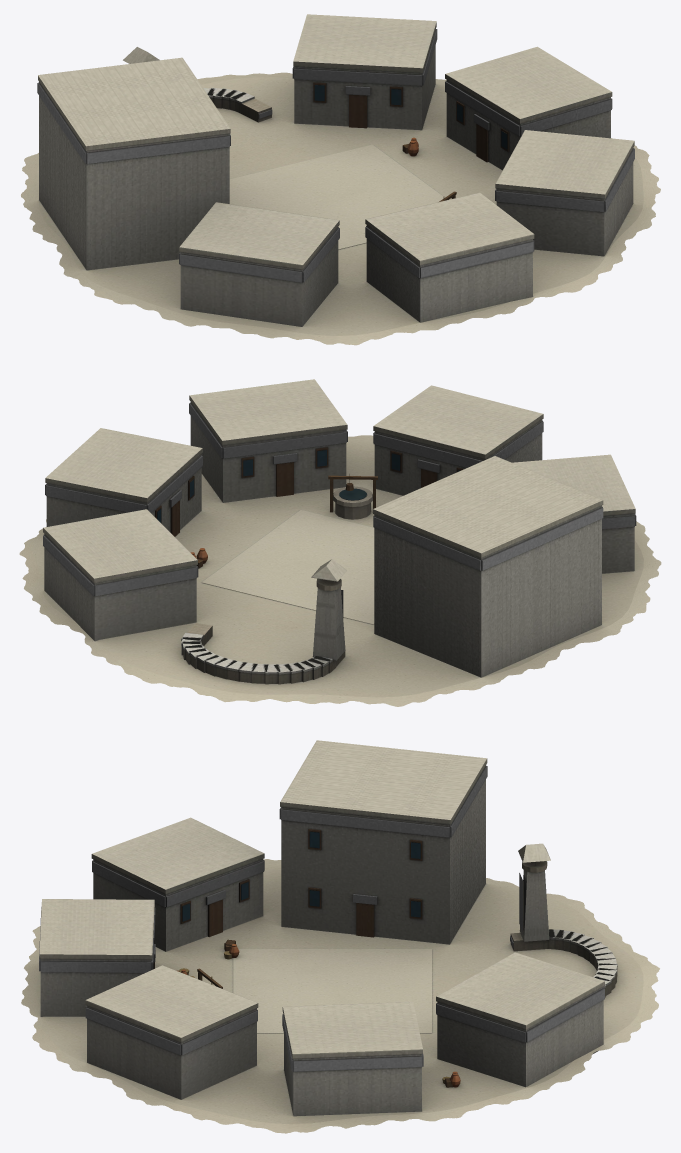
The model's file is classical-town-small-b-maghreb-0b045265.glb.
3 renders of one model, top to bottom at view 1: azimuth 30°, elevation 25°; view 2: azimuth 150°, elevation 25°; view 3: azimuth 270°, elevation 25°, orthographic.
Parts seen in each view (by area): view 1: LOD0; view 2: LOD0; view 3: LOD0.
Boxes of the visible parts, x1=… form: LOD0: x1=21, y1=14, x2=660, y2=345; LOD0: x1=19, y1=379, x2=661, y2=706; LOD0: x1=21, y1=740, x2=659, y2=1133.
Size of what is drawn, in the model's own units: 4.03 by 0.8632 by 3.95.
3 materials, 3 textured.
